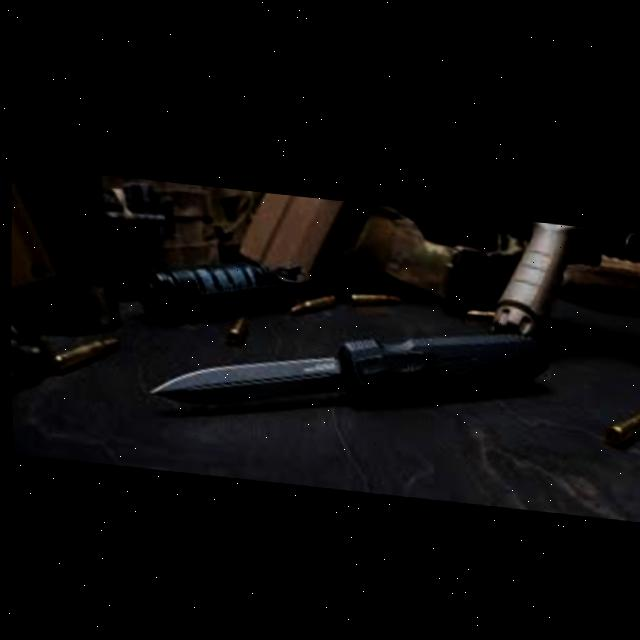knife: (141, 288, 549, 444)
